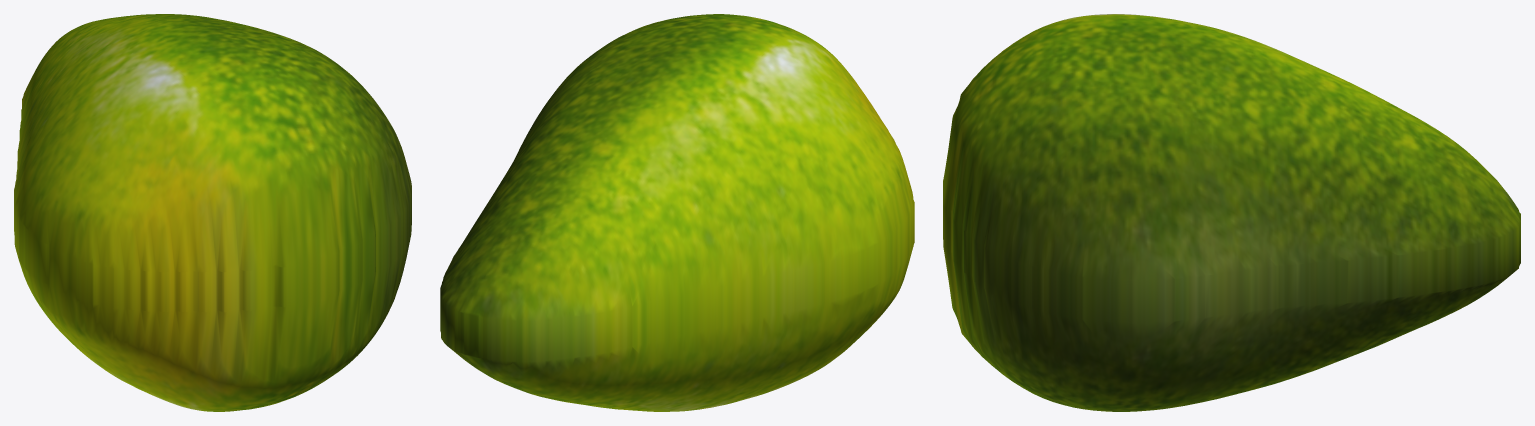
File: green pear_5_1.obj
3 views of the same model, side by side, from view 1: azimuth 30°, elevation 25°; view 2: azimuth 150°, elevation 25°; view 3: azimuth 270°, elevation 25° (orthographic). The views are drawn at different scales.
Visible parts, largest first — view 1: Grid; view 2: Grid; view 3: Grid.
Part boxes in pixels (x1,y1,x2,y2): Grid: [14, 14, 411, 411]; Grid: [440, 14, 914, 411]; Grid: [943, 14, 1520, 411].
Bounding box in the file's own units: 1.3 × 1.2 × 1.76.
Materials: 1 (1 with a texture image).
